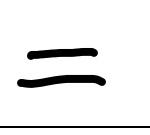eqv: (15, 47, 106, 88)
